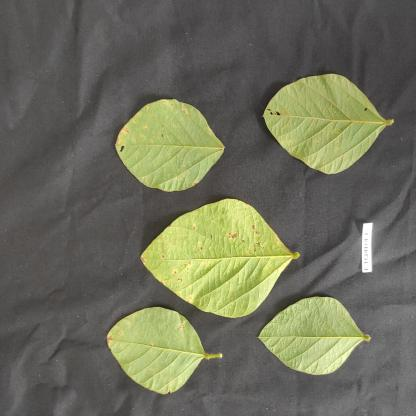label: (359, 216, 381, 282)
leaflets: (261, 67, 415, 179), (137, 206, 295, 304), (109, 101, 241, 198), (259, 290, 374, 388), (107, 310, 214, 403)
